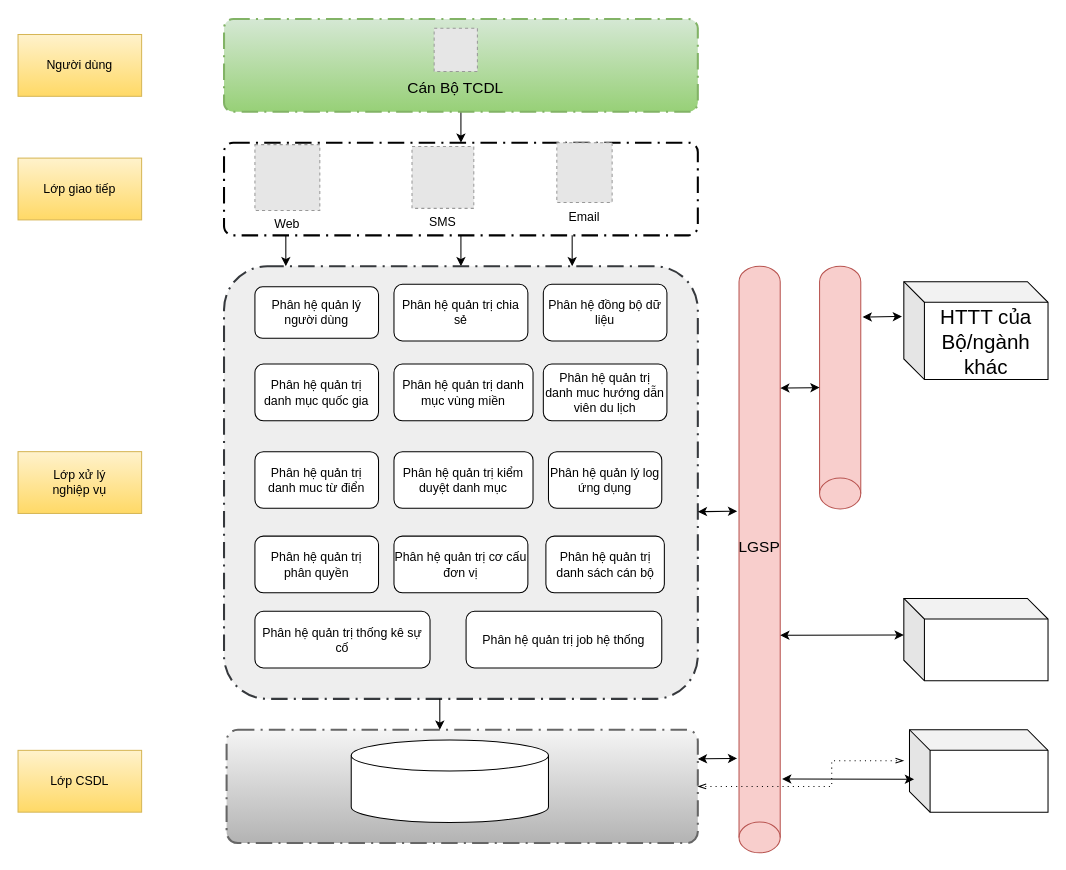
This 1066x870 diagram has some shape labels left out. Grey dashed boxes stand in for pictures. Here are the shapes that lost their labels. From the top down, the centre of each, then its label:
pixel 840 387: NGSP
pixel 975 639: HTTT của Bộ VHTTDL
pixel 449 780: CSDL
pixel 978 770: HTTT của TCDL
